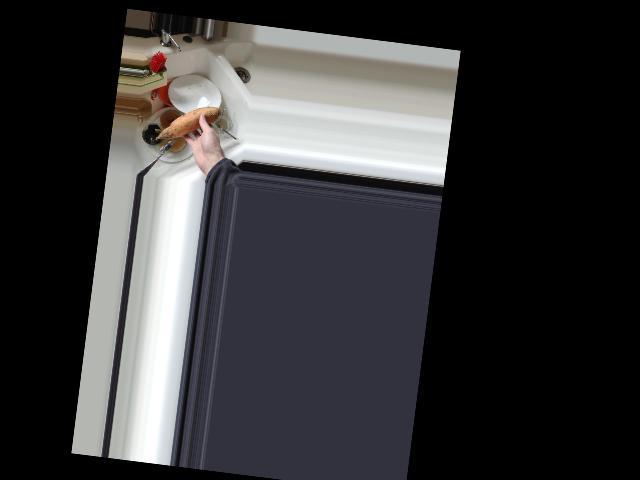sweet_potato: (156, 98, 222, 149)
